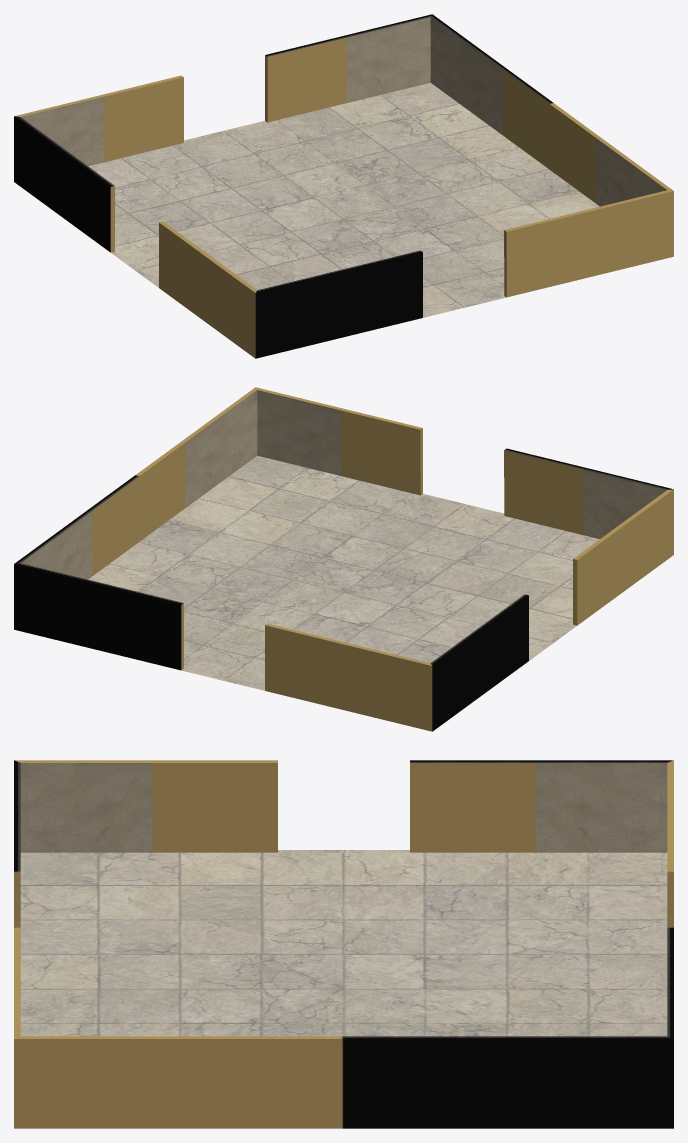
The model's file is Room_2Exit02_Type02.fbx.
The picture shows the model from 3 angles, top to bottom: view 1: azimuth 30°, elevation 25°; view 2: azimuth 150°, elevation 25°; view 3: azimuth 270°, elevation 25°; orthographic projection. The views are drawn at different scales.
Parts seen in each view (by area): view 1: Room1x1_3Exits4; view 2: Room1x1_3Exits4; view 3: Room1x1_3Exits4.
Part boxes in pixels (x1,y1,x2,y2): Room1x1_3Exits4: [14, 14, 673, 358]; Room1x1_3Exits4: [14, 387, 673, 731]; Room1x1_3Exits4: [14, 760, 673, 1128].
Size of the model in its own units: 10 by 1.5 by 10.
